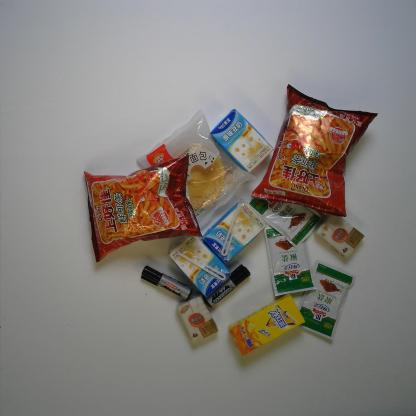Dessert: (141, 107, 253, 236)
Drink: (226, 294, 309, 357)
Milk: (212, 109, 276, 176), (169, 232, 231, 296), (205, 201, 266, 264)
Puffed Food: (254, 87, 380, 220), (83, 155, 202, 264)
Seasoner: (250, 180, 320, 249), (300, 264, 356, 342), (266, 230, 315, 292)
Stationery: (206, 260, 251, 308), (140, 263, 192, 303)
Tissue: (312, 216, 367, 259), (176, 292, 219, 345)
